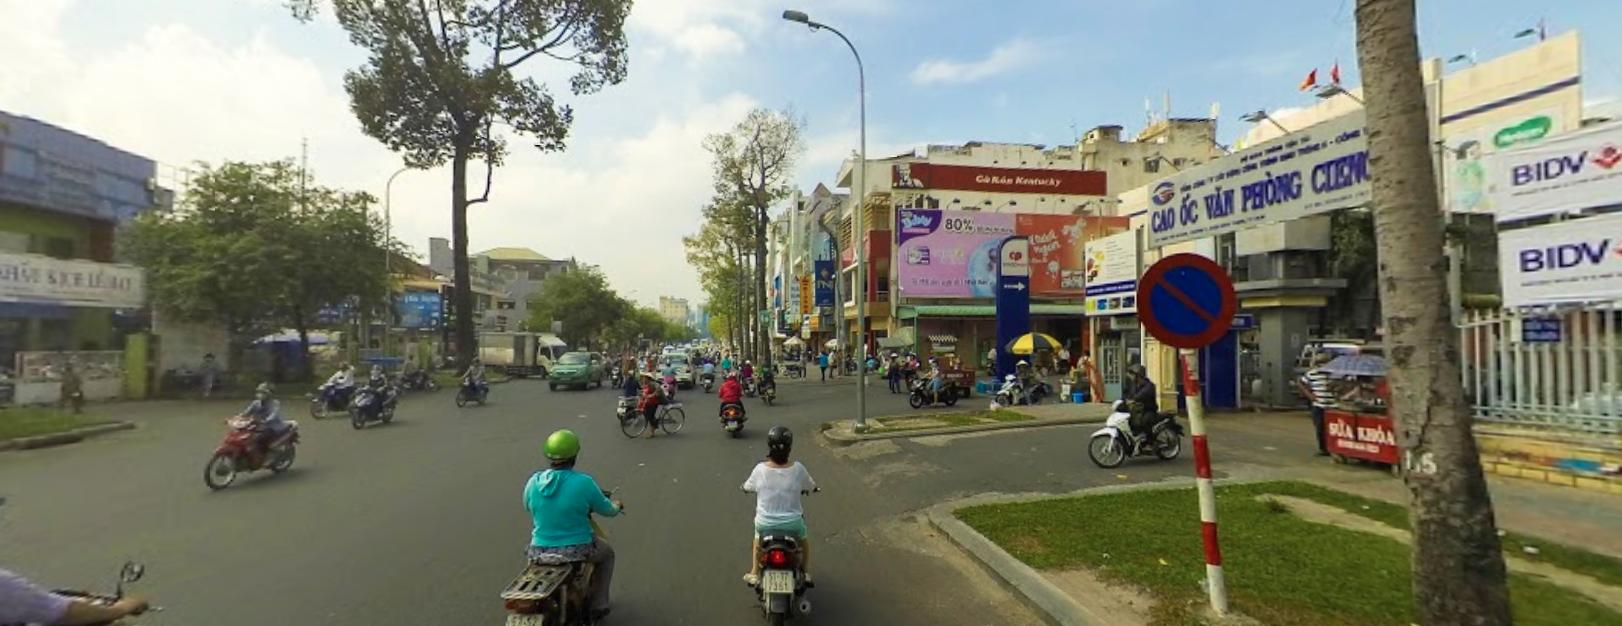Cam dung va do: (1135, 250, 1233, 347)
